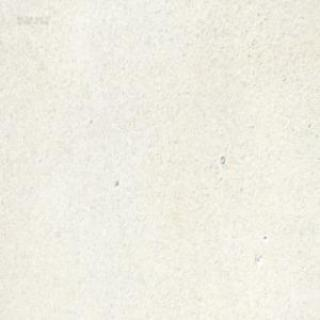Washertrack_idkeyframe: (219, 154, 224, 164)
